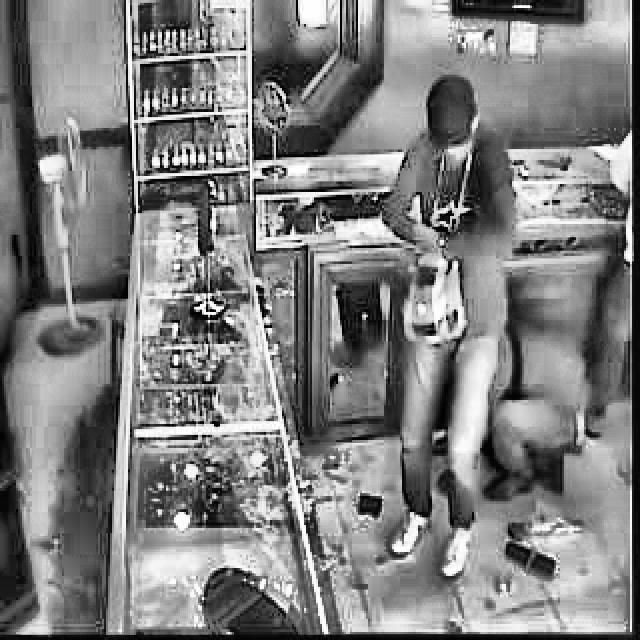robbery: (378, 71, 519, 584)
